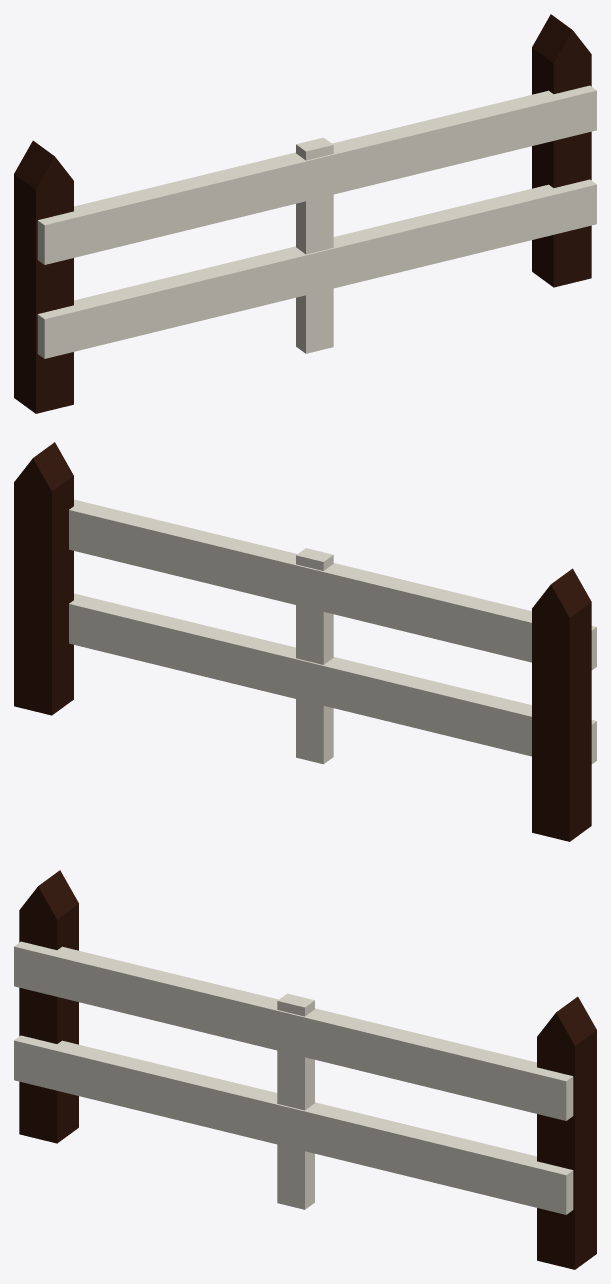
Rendered from Fence.obj.
3 views of the same model, one above another, from view 1: azimuth 30°, elevation 25°; view 2: azimuth 150°, elevation 25°; view 3: azimuth 330°, elevation 25° (orthographic).
Visible parts, largest first — view 1: Fence; view 2: Fence; view 3: Fence.
Part boxes in pixels (x1,y1,x2,y2): Fence: (14, 14, 596, 413); Fence: (14, 442, 596, 841); Fence: (14, 870, 596, 1269).
Size of the model in its own units: 2.25 by 0.98 by 0.203.
